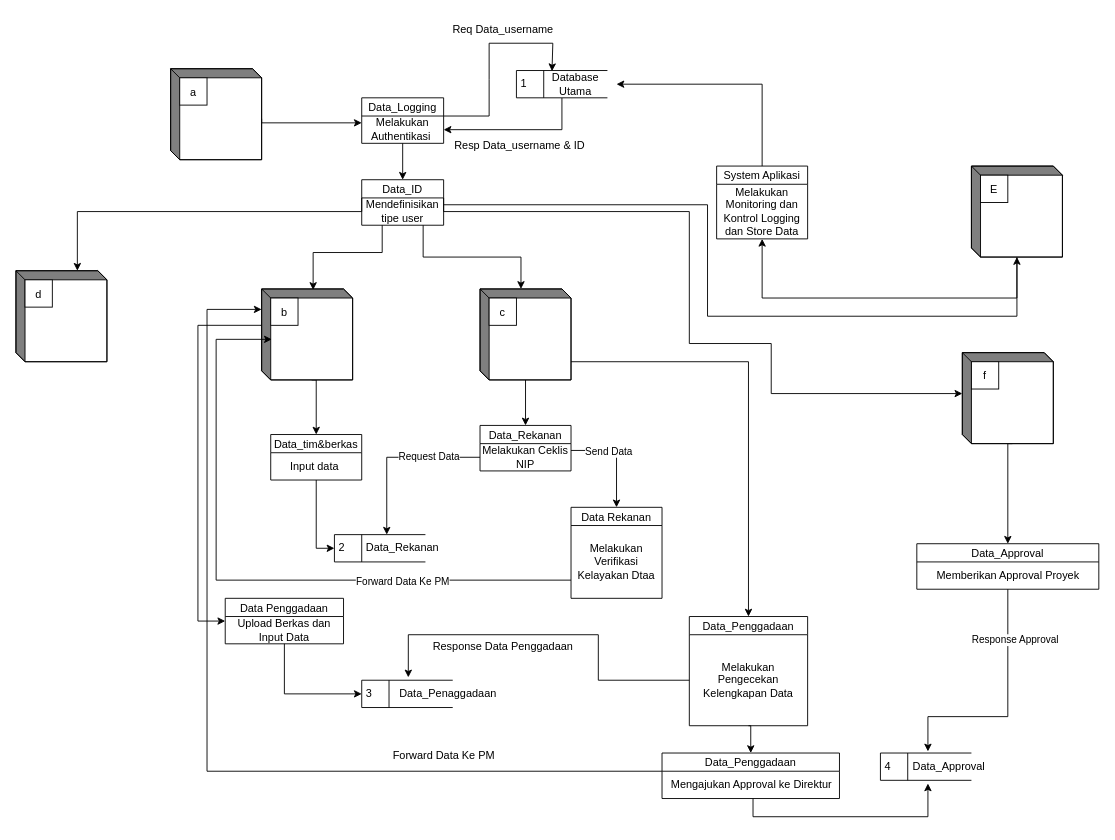
Image size: 1115x840. Some labels were removed from this diagram. Here are the shapes that lost their labels. From the top down, the centre of each, then its label:
point 216,114: User Aplikasi
point 1016,211: Departemen IT
point 61,316: Departemen Keuangan
point 307,334: Proyek Manager
point 525,334: Departemen Informasi
point 1007,398: Direktur
